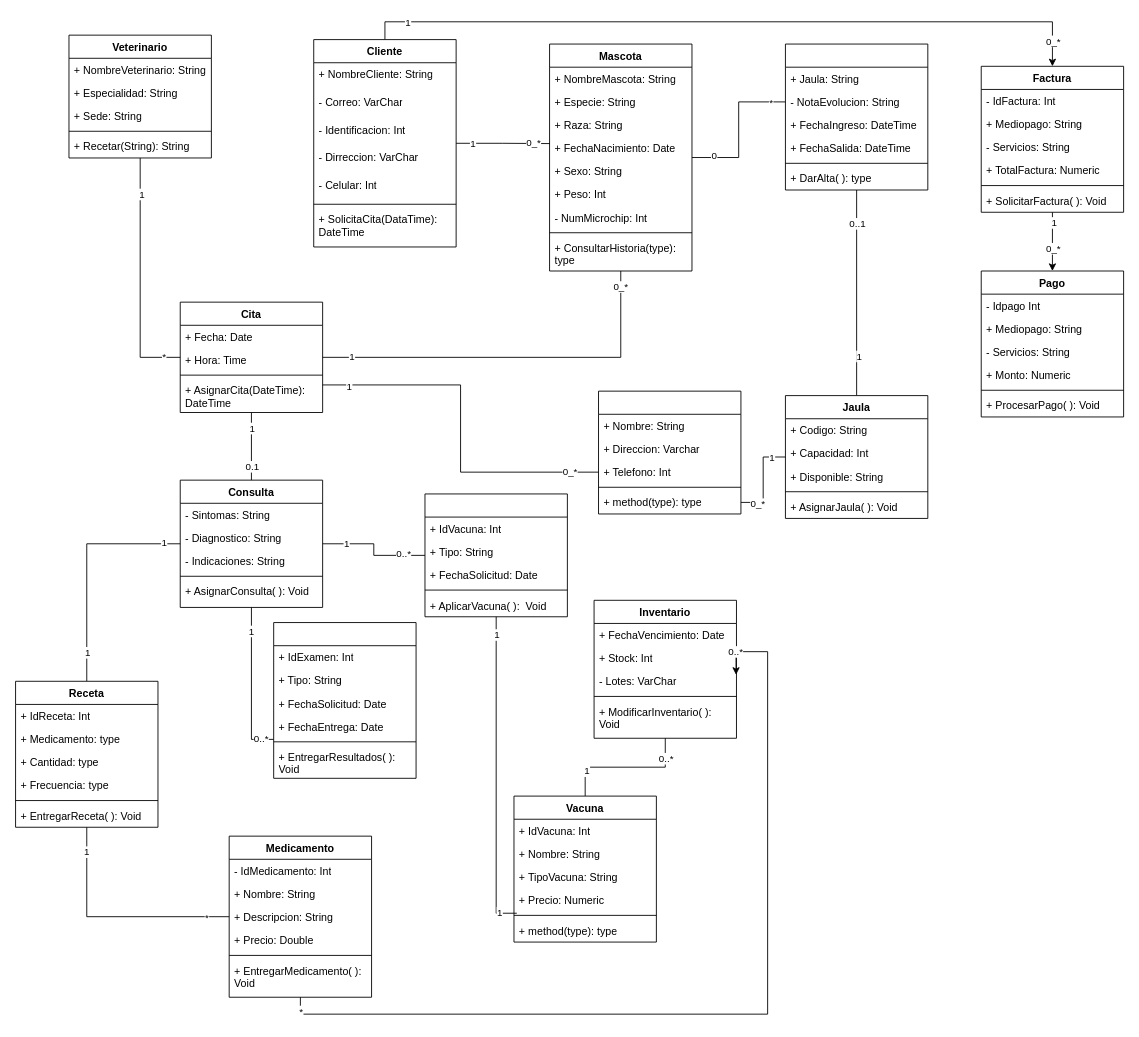
Some shapes in this 1139 by 1037 pixel diagram are drawn without their labels. The shapes that lost their labels are listed below. From the top down, each one's box as (x1, y1, x2, y2) in pixels, then its label:
(785, 43, 928, 190): Hospitalizacion
(598, 390, 741, 514): Sede
(424, 493, 567, 617): AplicacionVacuna
(273, 622, 416, 778): SolicitudExamen
